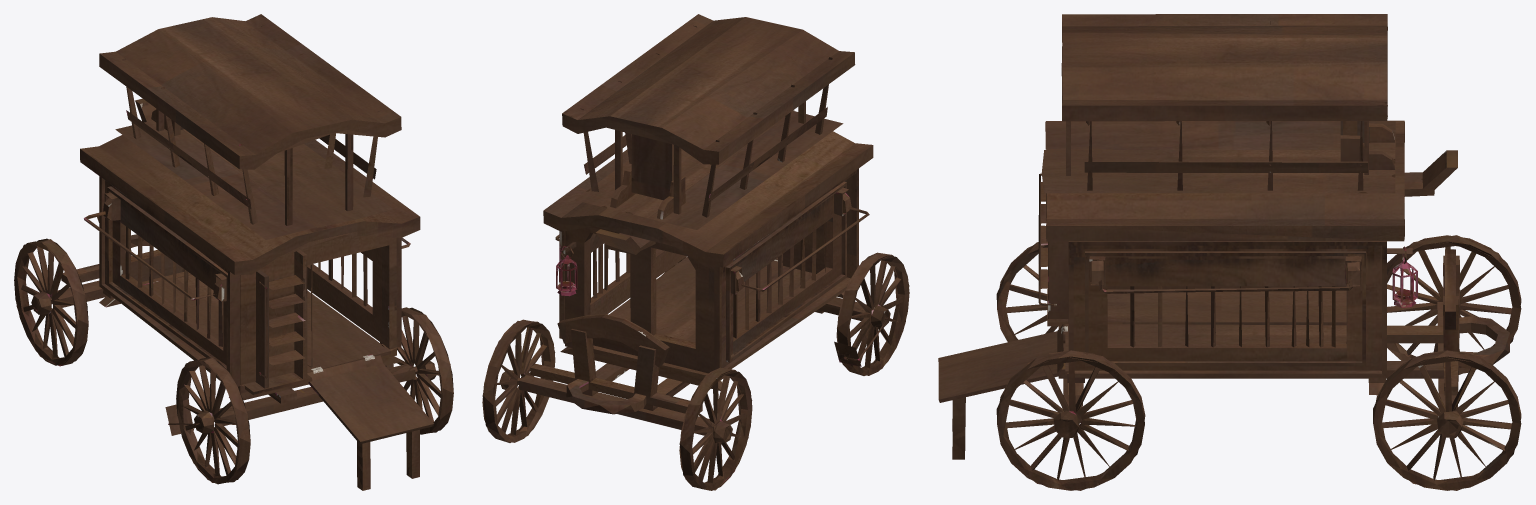
The model's file is slaveCart.glb.
3 views of the same model, side by side, from view 1: azimuth 30°, elevation 25°; view 2: azimuth 150°, elevation 25°; view 3: azimuth 270°, elevation 25° (orthographic). The views are drawn at different scales.
Parts seen in each view (by area): view 1: slaveCart; view 2: slaveCart; view 3: slaveCart.
Part boxes in pixels (left/top/right/bottom): slaveCart: left=14, top=14, right=453, bottom=490; slaveCart: left=482, top=14, right=909, bottom=490; slaveCart: left=938, top=14, right=1521, bottom=490.
Size of the model in its own units: 3.21 by 4.34 by 5.98.
Materials: 1 (1 with a texture image).
